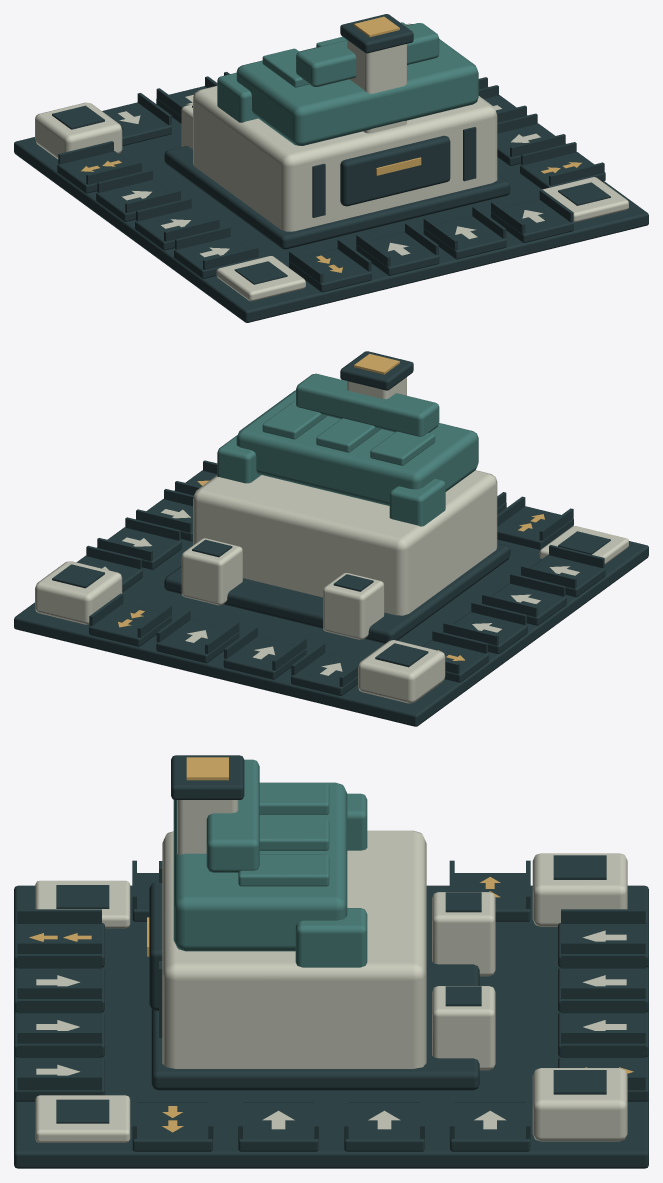
The model's file is core-outline.glb.
3 renders of one model, top to bottom at view 1: azimuth 30°, elevation 25°; view 2: azimuth 150°, elevation 25°; view 3: azimuth 270°, elevation 25°, orthographic. The views are drawn at different scales.
Parts seen in each view (by area): view 1: LogisticsRing_Mesh0, Structure_Mesh0, I_Mesh0, II_Mesh0, StatusMounts_Mesh0; view 2: LogisticsRing_Mesh0, Structure_Mesh0, I_Mesh0, II_Mesh0, StatusMounts_Mesh0; view 3: LogisticsRing_Mesh0, Structure_Mesh0, I_Mesh0, II_Mesh0, StatusMounts_Mesh0.
Part boxes in pixels (left/top/right/bottom): LogisticsRing_Mesh0: left=14, top=14, right=648, bottom=322; Structure_Mesh0: left=35, top=23, right=628, bottom=301; I_Mesh0: left=236, top=22, right=478, bottom=145; II_Mesh0: left=217, top=23, right=439, bottom=122; StatusMounts_Mesh0: left=81, top=16, right=581, bottom=272; LogisticsRing_Mesh0: left=14, top=351, right=648, bottom=726; Structure_Mesh0: left=35, top=377, right=628, bottom=703; I_Mesh0: left=236, top=390, right=478, bottom=505; II_Mesh0: left=217, top=373, right=445, bottom=526; StatusMounts_Mesh0: left=118, top=353, right=544, bottom=660; LogisticsRing_Mesh0: left=14, top=755, right=648, bottom=1168; Structure_Mesh0: left=35, top=800, right=627, bottom=1142; I_Mesh0: left=173, top=782, right=347, bottom=951; II_Mesh0: left=206, top=759, right=367, bottom=967; StatusMounts_Mesh0: left=29, top=757, right=633, bottom=1132.
Bounding box in the file's own units: 6 × 2.8 × 6.
